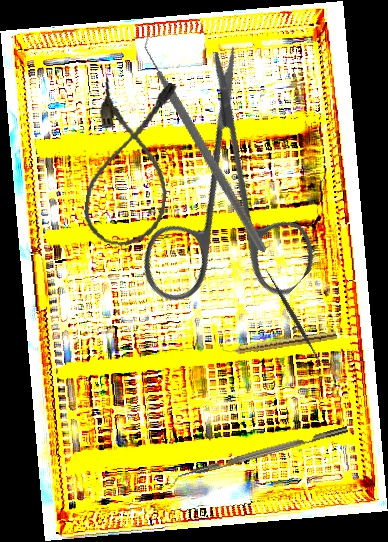Cannula: (80, 73, 182, 252)
Chopper: (82, 28, 333, 253), (170, 426, 351, 488)
Handpiece: (221, 329, 338, 357)
Iris Scissors: (66, 40, 387, 361)
Spatula Surgical: (259, 263, 328, 369)
